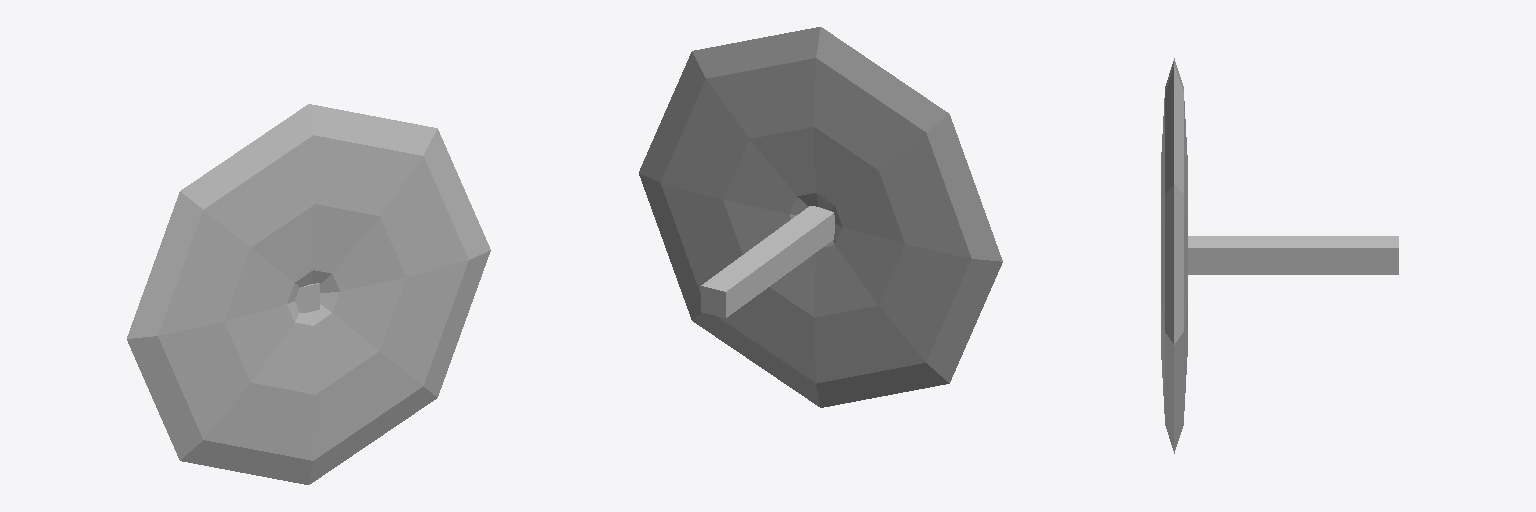
Rendered from RetreiverLeftSaw.obj.
3 views of the same model, side by side, from view 1: azimuth 30°, elevation 25°; view 2: azimuth 150°, elevation 25°; view 3: azimuth 270°, elevation 25° (orthographic).
Parts seen in each view (by area): view 1: LeftSaw; view 2: LeftSaw; view 3: LeftSaw.
Part boxes in pixels (left/top/right/bottom): LeftSaw: left=127, top=104, right=490, bottom=484; LeftSaw: left=639, top=27, right=1002, bottom=407; LeftSaw: left=1161, top=58, right=1398, bottom=453.
Bounding box in the file's own units: 0.6102 × 0.6102 × 0.3443.